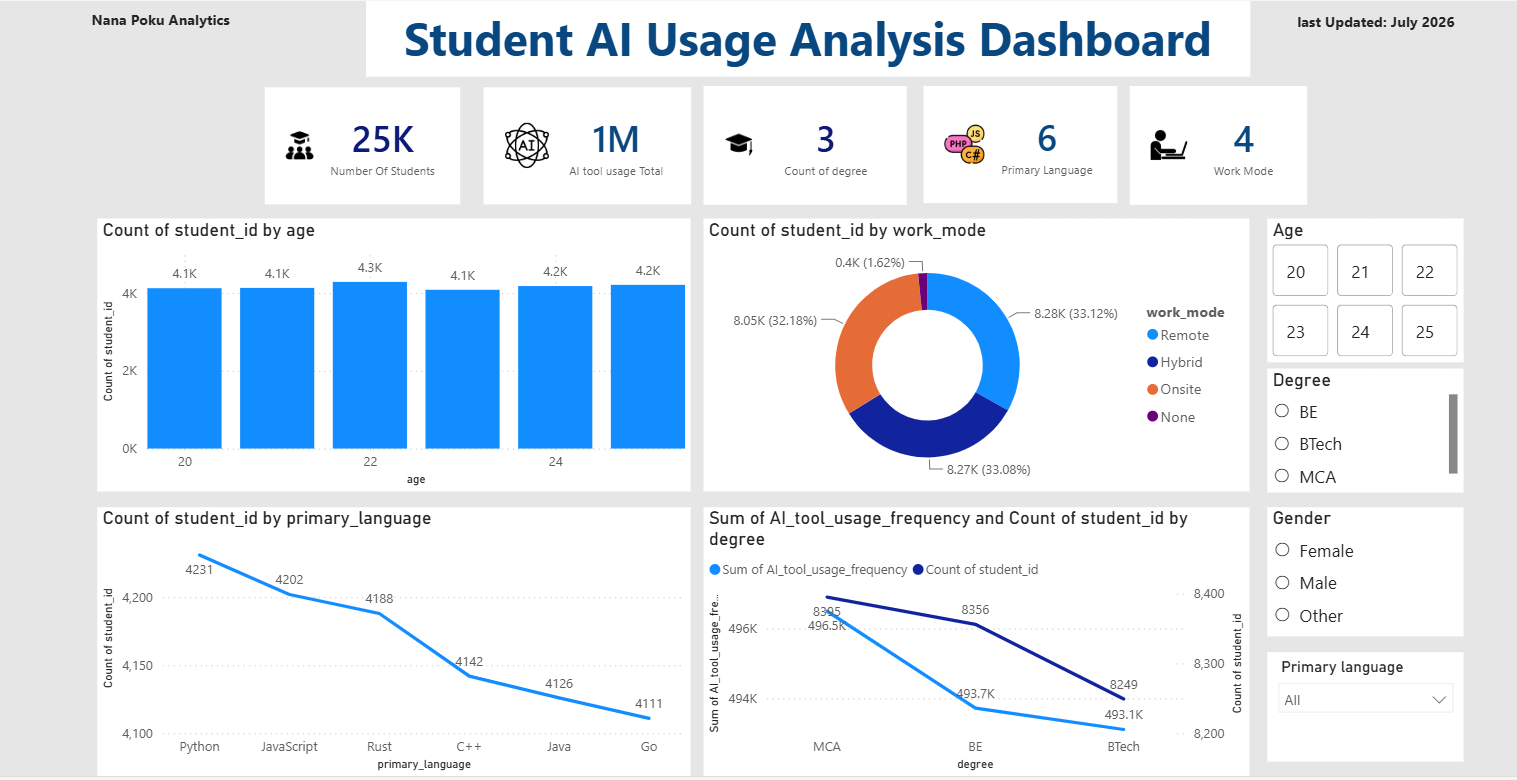

The dashboard page shown, as its layout file describes it:
{"tool":"powerbi","page":{"name":"Overview","canvas":[1280,720],"ordinal":0},"visuals":[{"type":"clusteredColumnChart","fields":{"Category":["student_placement_career_success_dataset.age"],"Y":["CountNonNull(student_placement_career_success_dataset.student_id)"]},"box":[10,202.5,551.2,253.8],"z":0},{"type":"lineChart","fields":{"Category":["student_placement_career_success_dataset.primary_language"],"Y":["CountNonNull(student_placement_career_success_dataset.student_id)"]},"box":[10,470,551.2,250],"z":1000},{"type":"donutChart","fields":{"Category":["student_placement_career_success_dataset.work_mode"],"Y":["Count(student_placement_career_success_dataset.student_id)"]},"box":[573.8,202.5,507.5,253.8],"z":2000},{"type":"lineChart","fields":{"Category":["student_placement_career_success_dataset.degree"],"Y":["Sum(student_placement_career_success_dataset.AI_tool_usage_frequency)"],"Y2":["CountNonNull(student_placement_career_success_dataset.student_id)"]},"box":[573.8,470,507.5,250],"z":3000},{"type":"textbox","box":[260,0,821.2,70],"z":4000},{"type":"cardVisual","fields":{"Data":["Count(student_placement_career_success_dataset.student_id)"]},"box":[166.2,80,181.2,108.8],"z":5000},{"type":"cardVisual","fields":{"Data":["Count(student_placement_career_success_dataset.degree)"]},"box":[573.8,78.8,188.8,110],"z":6000},{"type":"cardVisual","fields":{"Data":["Count(student_placement_career_success_dataset.primary_language)"]},"box":[777.5,78.8,180,108.8],"z":7000},{"type":"cardVisual","fields":{"Data":["Count(student_placement_career_success_dataset.work_mode)"]},"box":[970,78.8,165,110],"z":8000},{"type":"cardVisual","fields":{"Data":["Sum(student_placement_career_success_dataset.AI_tool_usage_frequency)"]},"box":[368.8,80,192.5,108.8],"z":9000},{"type":"advancedSlicerVisual","fields":{"Values":["student_placement_career_success_dataset.age"]},"box":[1097.5,202.5,182.5,133.8],"z":10000},{"type":"listSlicer","fields":{"Values":["student_placement_career_success_dataset.degree"]},"box":[1097.5,341.2,182.5,115],"z":11000},{"type":"listSlicer","fields":{"Values":["student_placement_career_success_dataset.gender"]},"box":[1097.5,470,182.5,120],"z":12000},{"type":"textbox","box":[0,3.8,147.5,31.2],"z":13000},{"type":"slicer","fields":{"Values":["student_placement_career_success_dataset.primary_language"]},"box":[1097.5,605,182.5,101.2],"z":14000},{"type":"textbox","box":[1117.5,5,162.5,31.2],"z":15000}]}

Visuals, with their boxes on the page's 1280x720 design canvas (x1, y1, x2, y2). These are canvas units, not pixel positions in the 1517x780 screenshot, which may show the page scaled, cropped or inside an application window:
clusteredColumnChart - student_placement_career_success_dataset.age x CountNonNull(student_placement_career_success_dataset.student_id): (10,202,561,456)
lineChart - student_placement_career_success_dataset.primary_language x CountNonNull(student_placement_career_success_dataset.student_id): (10,470,561,720)
donutChart - student_placement_career_success_dataset.work_mode x Count(student_placement_career_success_dataset.student_id): (574,202,1081,456)
lineChart - student_placement_career_success_dataset.degree x Sum(student_placement_career_success_dataset.AI_tool_usage_frequency): (574,470,1081,720)
textbox: (260,0,1081,70)
cardVisual - Count(student_placement_career_success_dataset.student_id): (166,80,347,189)
cardVisual - Count(student_placement_career_success_dataset.degree): (574,79,763,189)
cardVisual - Count(student_placement_career_success_dataset.primary_language): (778,79,958,188)
cardVisual - Count(student_placement_career_success_dataset.work_mode): (970,79,1135,189)
cardVisual - Sum(student_placement_career_success_dataset.AI_tool_usage_frequency): (369,80,561,189)
advancedSlicerVisual - student_placement_career_success_dataset.age: (1098,202,1280,336)
listSlicer - student_placement_career_success_dataset.degree: (1098,341,1280,456)
listSlicer - student_placement_career_success_dataset.gender: (1098,470,1280,590)
textbox: (0,4,148,35)
slicer - student_placement_career_success_dataset.primary_language: (1098,605,1280,706)
textbox: (1118,5,1280,36)
